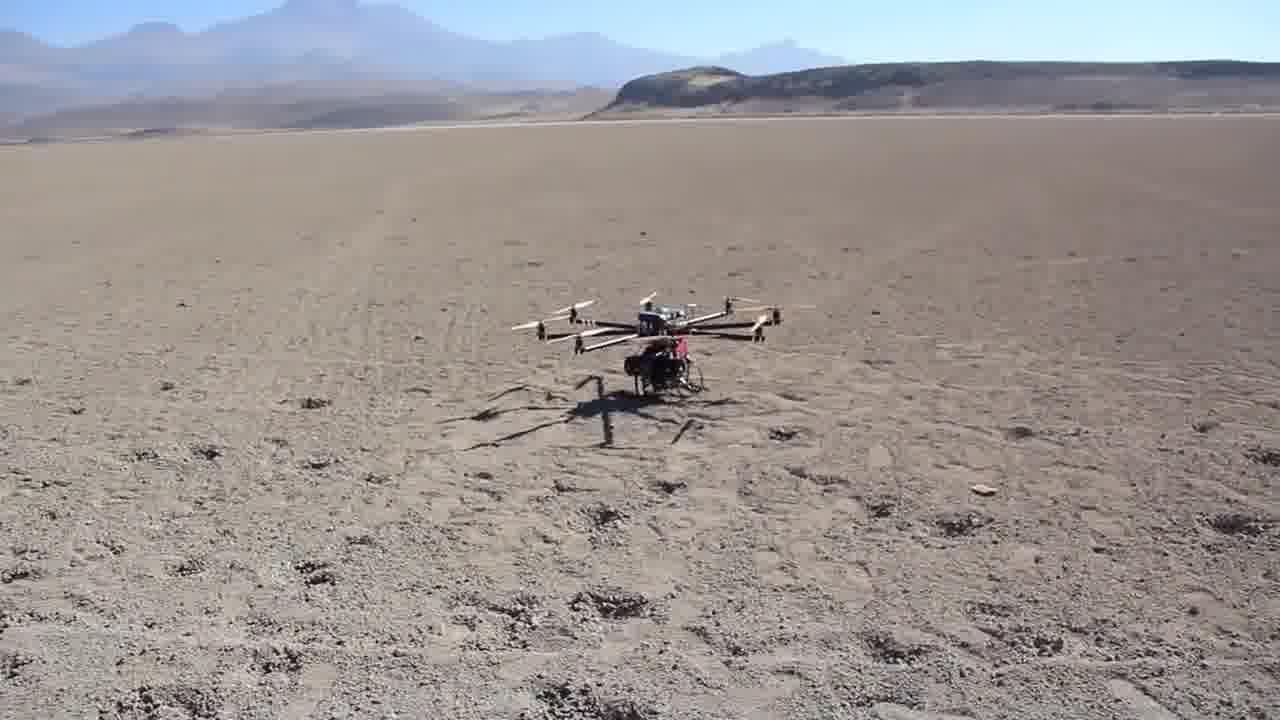drone: (515, 286, 802, 409)
